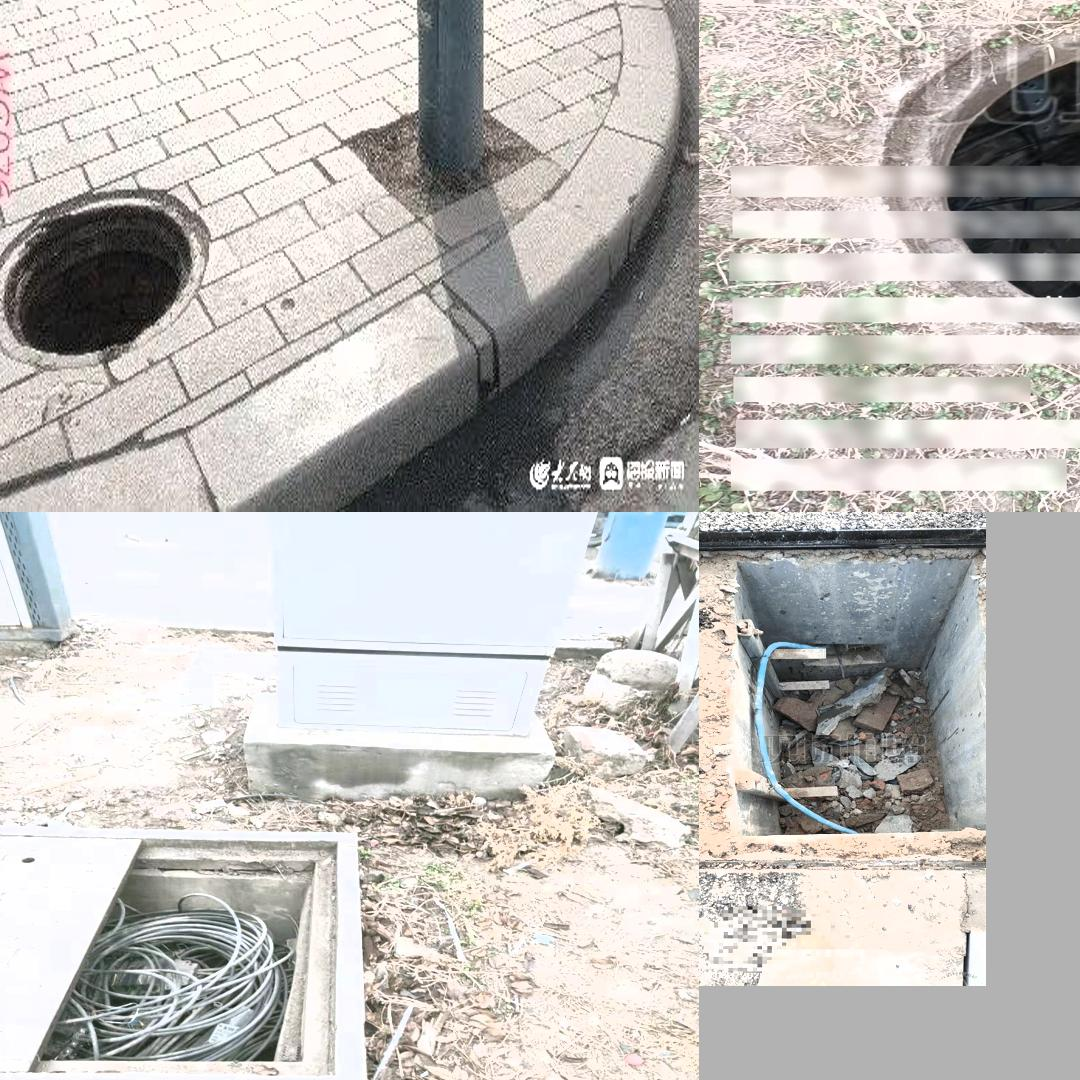lose: (702, 522, 985, 883), (0, 823, 370, 1080), (848, 0, 1080, 357), (0, 178, 210, 364)
